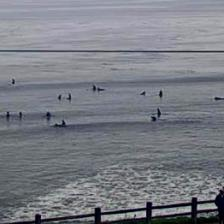surfer: (156, 109, 161, 117), (53, 123, 63, 127), (214, 97, 224, 100), (61, 119, 66, 125), (98, 87, 105, 91), (68, 93, 72, 100), (6, 111, 10, 118), (151, 116, 156, 121), (158, 90, 162, 96), (140, 91, 146, 95), (93, 86, 97, 92), (46, 111, 50, 117), (58, 95, 62, 100), (19, 111, 22, 117), (12, 79, 15, 84)
